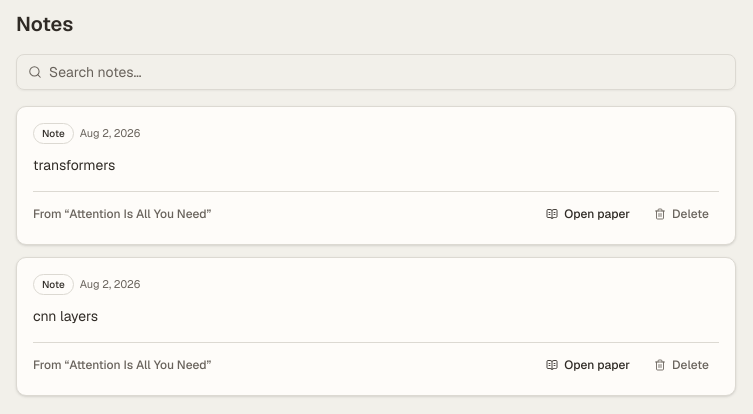
NotesPage › filters the list by the search box
Type "transformer" into the field labelled "Search notes…" at (376, 72), box [16,54,736,90]
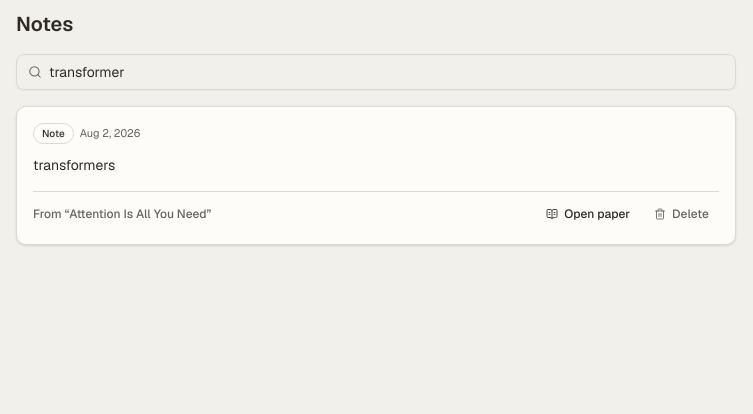
Check: the text "transformers" is shown, box [33,156,115,174]
Check: the text "cnn layers" is gone
